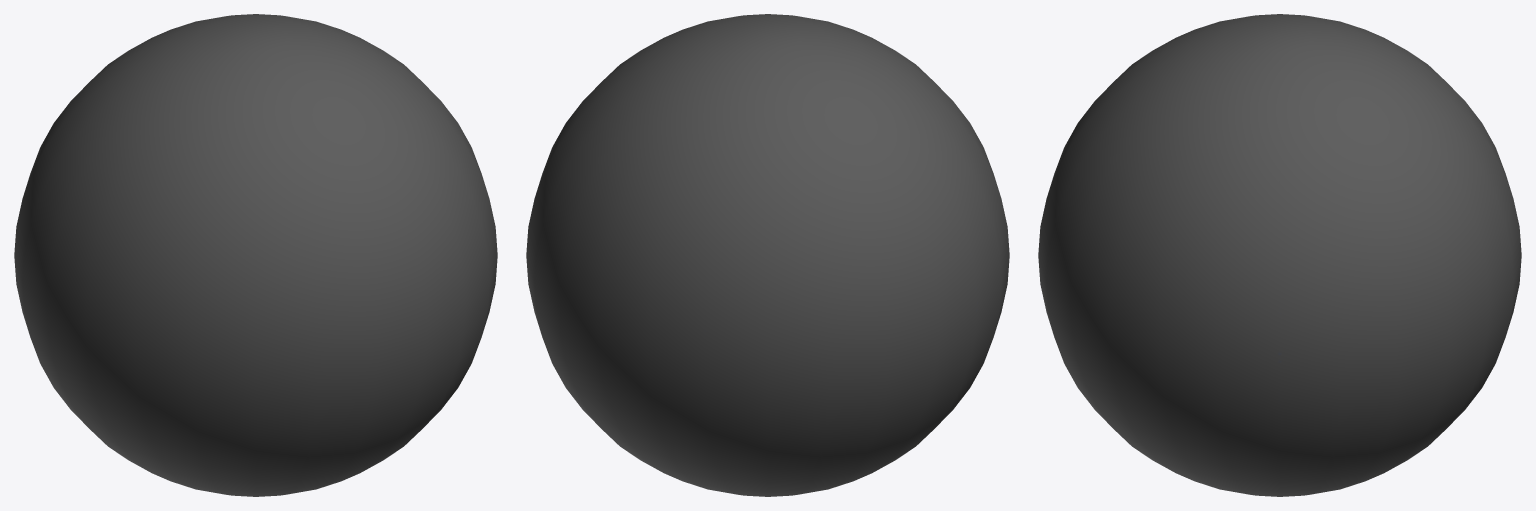
File: grey.glb
The picture shows the model from 3 angles, left to right: view 1: azimuth 30°, elevation 25°; view 2: azimuth 150°, elevation 25°; view 3: azimuth 270°, elevation 25°; orthographic projection.
Parts seen in each view (by area): view 1: node_id5; view 2: node_id5; view 3: node_id5.
Part boxes in pixels (left/top/right/bottom): node_id5: left=14, top=14, right=497, bottom=496; node_id5: left=526, top=14, right=1009, bottom=496; node_id5: left=1038, top=14, right=1521, bottom=496.
Bounding box in the file's own units: 0.512 × 0.512 × 0.512.
1 material, 1 textured.
